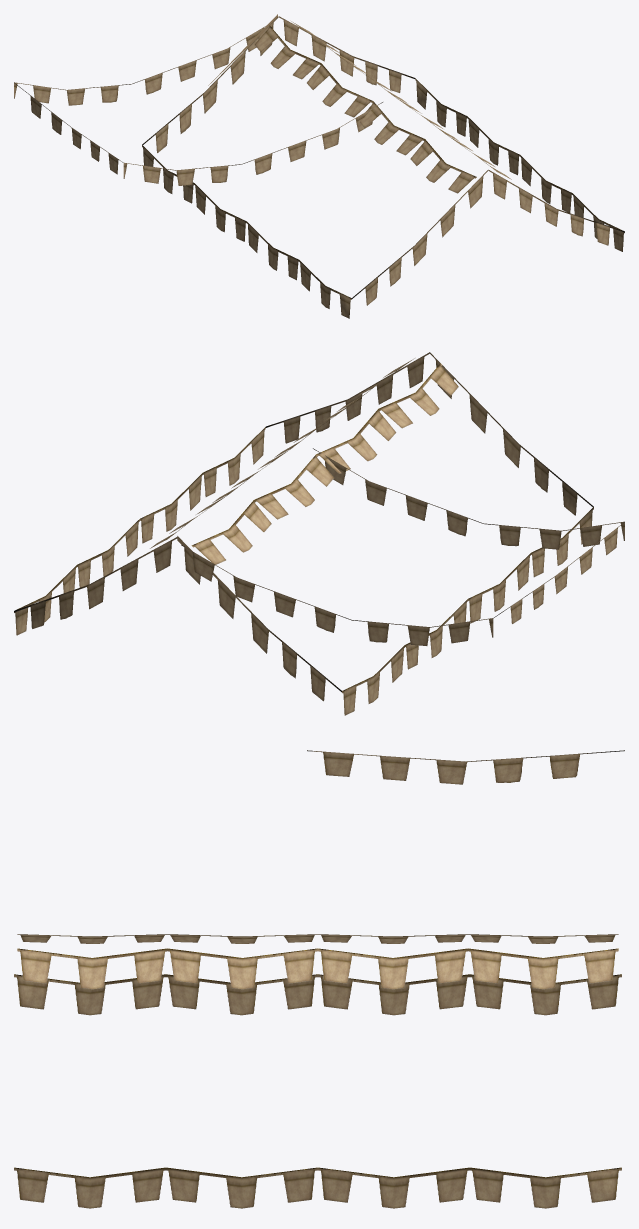
Rendered from rome_tent_a_flaps.dae.
3 views of the same model, one above another, from view 1: azimuth 30°, elevation 25°; view 2: azimuth 150°, elevation 25°; view 3: azimuth 270°, elevation 25° (orthographic). The views are drawn at different scales.
Visible parts, largest first — view 1: rome_sb_tent_transp002; view 2: rome_sb_tent_transp002; view 3: rome_sb_tent_transp002.
Part boxes in pixels (<box>): rome_sb_tent_transp002: <box>14,14,624,318</box>; rome_sb_tent_transp002: <box>14,352,624,715</box>; rome_sb_tent_transp002: <box>14,750,624,1208</box>.
Size of the model in its own units: 7.88 by 2.43 by 7.19.
